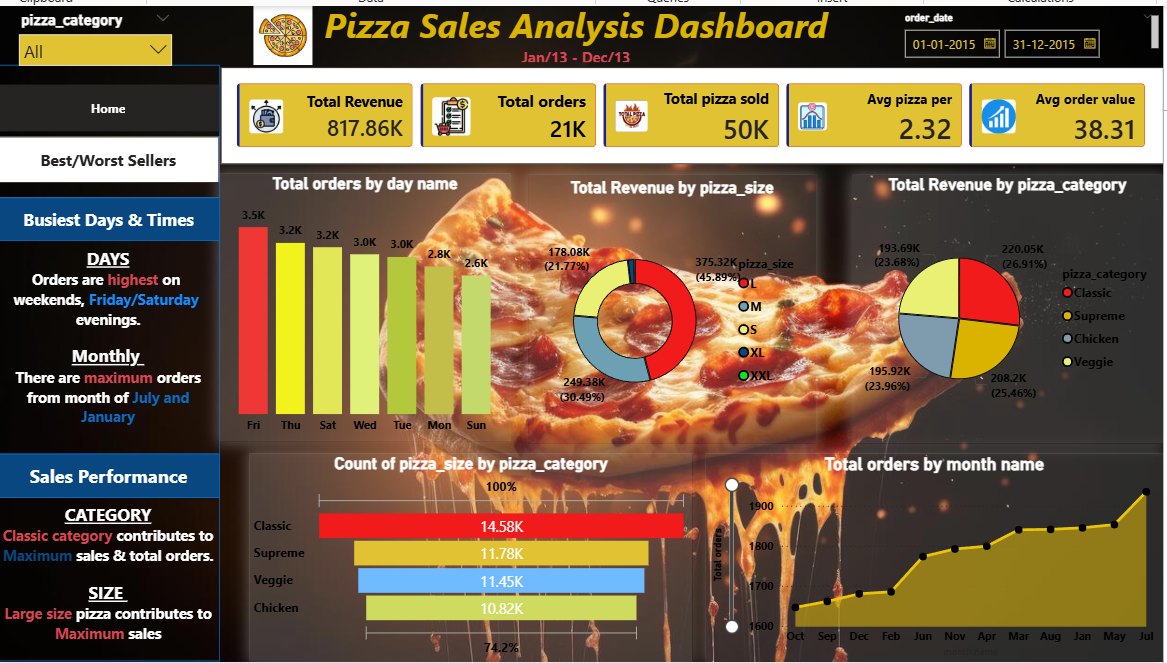

This screenshot's page, from the dashboard's own definition file:
{"tool":"powerbi","page":{"name":"Home","canvas":[1280,720],"ordinal":0},"visuals":[{"type":"textbox","box":[0,0,1280,66.7],"z":0},{"type":"cardVisual","fields":{"Data":["pizza_sales.Total Revenu","pizza_sales.total oreder","pizza_sales.total pizza sold","pizza_sales.Avg pizza per order","pizza_sales.Avg order value"]},"box":[245,66.7,1035,106.7],"z":1000},{"type":"columnChart","title":"Total orders by day name","fields":{"Category":["pizza_sales.day name"],"Y":["pizza_sales.total oreder"]},"box":[244.3,184.3,320,294.3],"z":2000},{"type":"areaChart","title":"Total orders by month name","fields":{"Category":["pizza_sales.month name"],"Y":["pizza_sales.total orders"]},"box":[778,491.3,502.2,229.2],"z":3000},{"type":"pieChart","fields":{"Category":["pizza_sales.pizza_category"],"Y":["pizza_sales.Total Revenu"]},"box":[938.6,185.2,341.7,295],"z":4000},{"type":"donutChart","fields":{"Category":["pizza_sales.pizza_size"],"Y":["pizza_sales.Total Revenu"]},"box":[583.2,185.2,315.6,295],"z":5000},{"type":"funnel","fields":{"Category":["pizza_sales.pizza_category"],"Y":["CountNonNull(pizza_sales.pizza_size)"]},"box":[276.7,491.7,486.7,228.3],"z":6000},{"type":"shape","box":[0,65,245,655],"z":7000},{"type":"image","box":[221.7,0,183.3,65],"z":8000},{"type":"slicer","fields":{"Values":["pizza_sales.pizza_category"]},"box":[13.3,0,188.3,66.7],"z":9000},{"type":"slicer","fields":{"Values":["pizza_sales.order_date"]},"box":[983.3,1.7,296.7,65],"z":10000},{"type":"shape","box":[0,210,245,48.3],"z":11000},{"type":"shape","box":[0,491.2,245,48.8],"z":12000},{"type":"textbox","box":[0,540,243.8,180],"z":13000},{"type":"textbox","box":[0,258.8,243.8,218.8],"z":14000},{"type":"pageNavigator","box":[0,86.4,244.3,108.4],"z":15000}]}

Visuals, with their boxes on the page's 1280x720 design canvas (x1, y1, x2, y2). These are canvas units, not pixel positions in the 1167x663 screenshot, which may show the page scaled, cropped or inside an application window:
textbox: box(0, 0, 1280, 67)
cardVisual - pizza_sales.Total Revenu x pizza_sales.total oreder: box(245, 67, 1280, 173)
"Total orders by day name" columnChart: box(244, 184, 564, 479)
"Total orders by month name" areaChart: box(778, 491, 1280, 720)
pieChart - pizza_sales.pizza_category x pizza_sales.Total Revenu: box(939, 185, 1280, 480)
donutChart - pizza_sales.pizza_size x pizza_sales.Total Revenu: box(583, 185, 899, 480)
funnel - pizza_sales.pizza_category x CountNonNull(pizza_sales.pizza_size): box(277, 492, 763, 720)
shape: box(0, 65, 245, 720)
image: box(222, 0, 405, 65)
slicer - pizza_sales.pizza_category: box(13, 0, 202, 67)
slicer - pizza_sales.order_date: box(983, 2, 1280, 67)
shape: box(0, 210, 245, 258)
shape: box(0, 491, 245, 540)
textbox: box(0, 540, 244, 720)
textbox: box(0, 259, 244, 478)
pageNavigator: box(0, 86, 244, 195)
